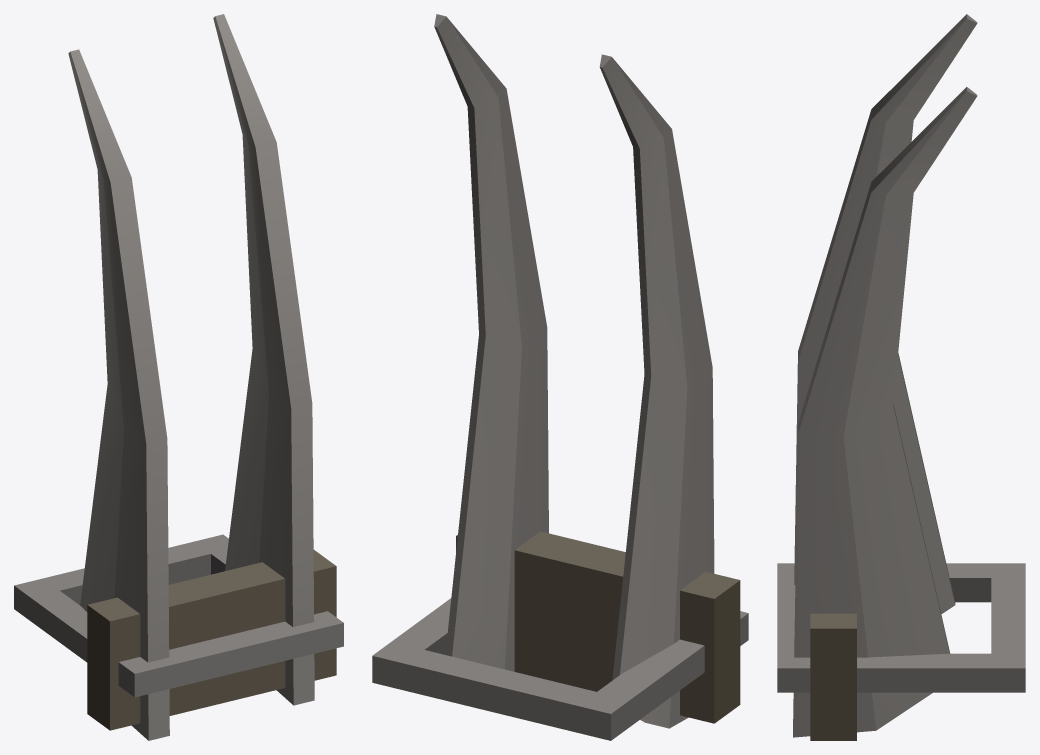
Rendered from SF_Wep_Claws_01.fbx.
3 renders of one model, left to right at view 1: azimuth 30°, elevation 25°; view 2: azimuth 150°, elevation 25°; view 3: azimuth 270°, elevation 25°, orthographic. The views are drawn at different scales.
Parts seen in each view (by area): view 1: SF_Wep_Claws_01; view 2: SF_Wep_Claws_01; view 3: SF_Wep_Claws_01.
Boxes of the visible parts, x1,y1,x2,y2 form: SF_Wep_Claws_01: [14, 14, 343, 740]; SF_Wep_Claws_01: [372, 14, 748, 740]; SF_Wep_Claws_01: [777, 14, 1025, 740].
Bounding box in the file's own units: 0.4647 × 1.23 × 0.4293.
